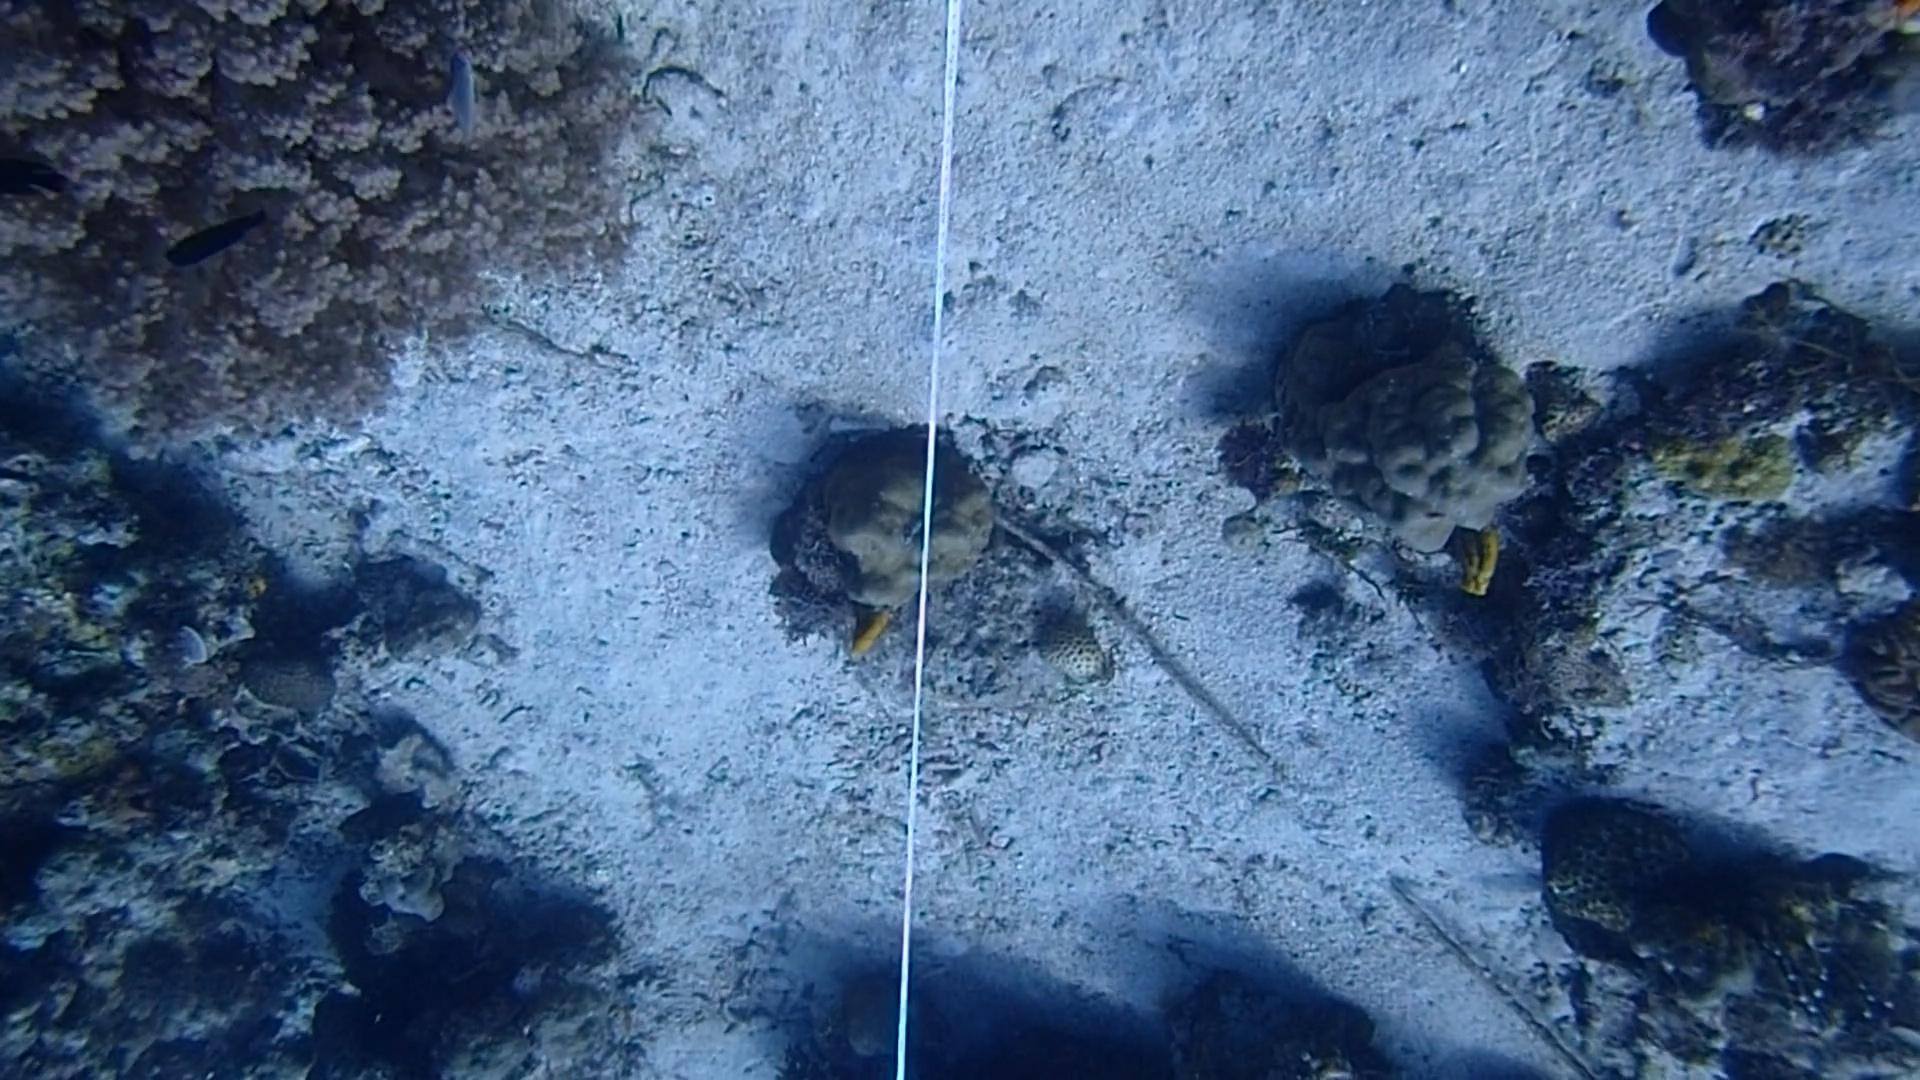Dark Fish: (161, 193, 281, 278), (0, 127, 78, 202)
Light Fish: (443, 46, 488, 150)
